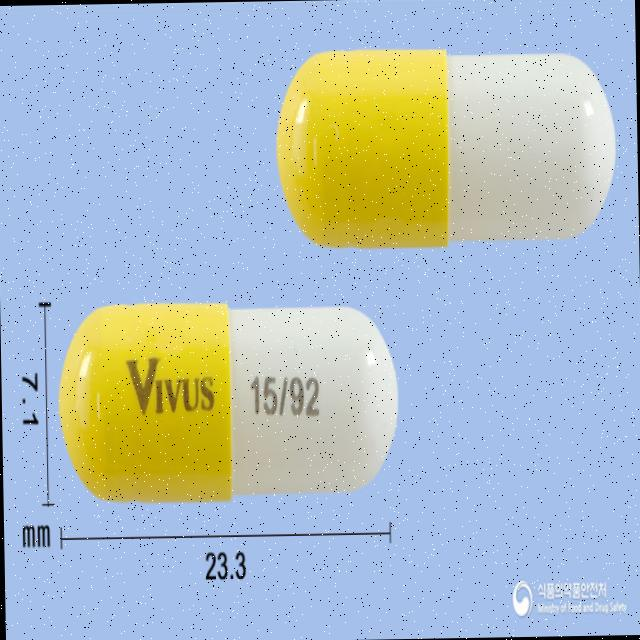Qsymia Cap-15mg: (57, 297, 402, 508)
